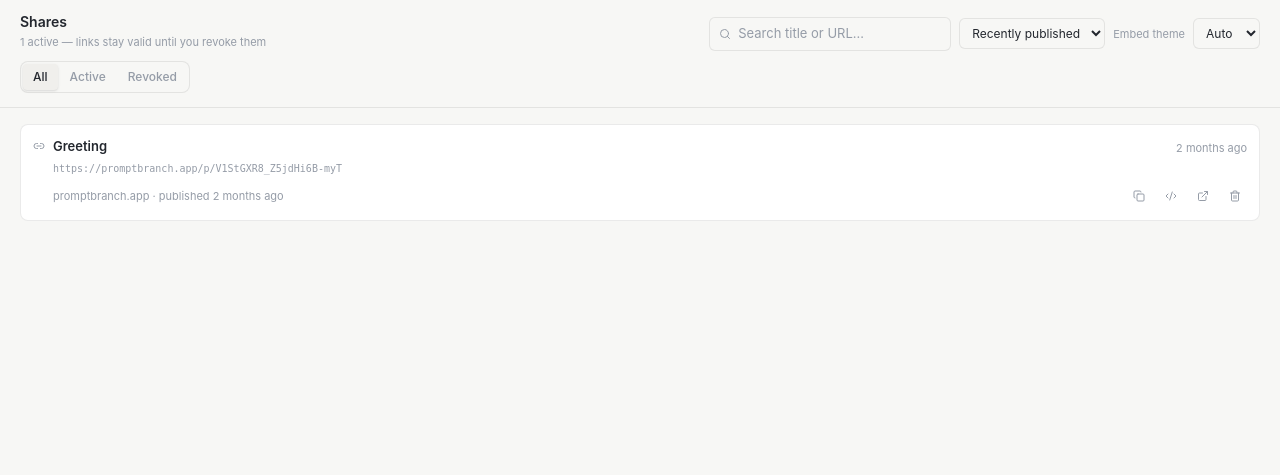
SharesView › shows a no-match state when filters exclude every share
The width and height of the screenshot is (1280, 475).
Expected: the button "Greeting" is shown, [53, 136, 107, 156]
Type "zzz-no-match" into the field named "Search shares". click: (830, 34)
box: [709, 17, 951, 50]
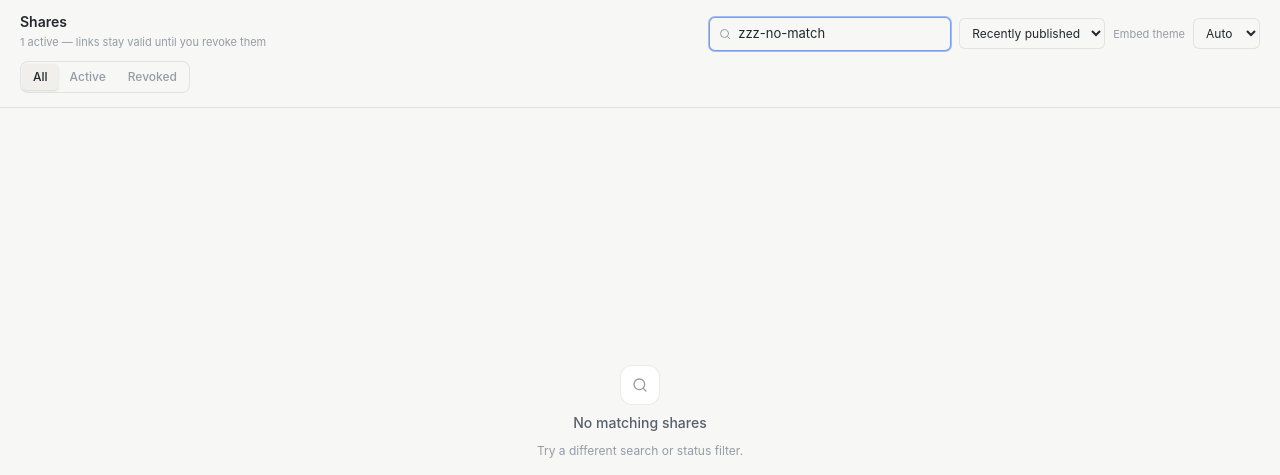
Result: the text "No matching shares" is shown at [573, 412, 707, 432]
